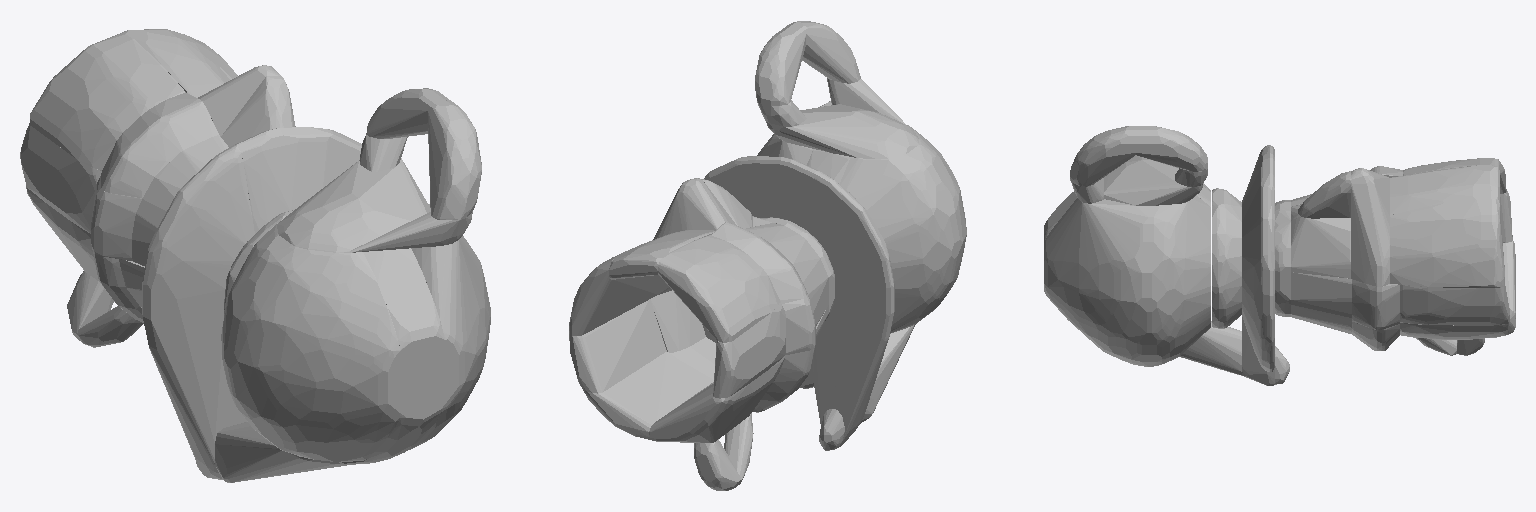
The robot description file, URDF, robot "root":
<?xml version="1.0"?>
<robot name="root">
  <link name="base_link">
    <visual>
      <origin xyz="0 0 0" rpy="0 0 0" />
      <geometry>
        <mesh filename="../meshes/unidex_core_jar-6e97b8fd720790455ca1f314f1afc186_008.obj" scale="1.0000E+00 1.0000E+00 1.0000E+00" />
      </geometry>
      <material name="">
        <color rgba="7.50E-01 7.50E-01 7.50E-01 1" />
      </material>
    </visual>
    <collision>
      <origin xyz="0 0 0" rpy="0 0 0" />
      <geometry>
        <mesh filename="../meshes/unidex_core_jar-6e97b8fd720790455ca1f314f1afc186_008.obj" scale="1.0000E+00 1.0000E+00 1.0000E+00" />
      </geometry>
    </collision>
  </link>
</robot>

--- Facts derived from the render (not from the file) ---
Views: 3 orthographic renders of the robot side by side, from view 1: azimuth 30°, elevation 25°; view 2: azimuth 150°, elevation 25°; view 3: azimuth 270°, elevation 25°.
Robot: root — 1 links, 0 joints (none); root link base_link; default pose: all joints at 0.
Visible links, largest first — view 1: base_link; view 2: base_link; view 3: base_link.
Link boxes in pixels (box(x1,y1,x2,y2)): base_link: box(20, 29, 490, 482); base_link: box(569, 21, 966, 490); base_link: box(1044, 126, 1515, 385).
Size in the robot's own frame: 0.0705 by 0.1473 by 0.1057 metres.
Meshes: 1 distinct files referenced, 1 mesh visuals loaded (1 OBJ).
